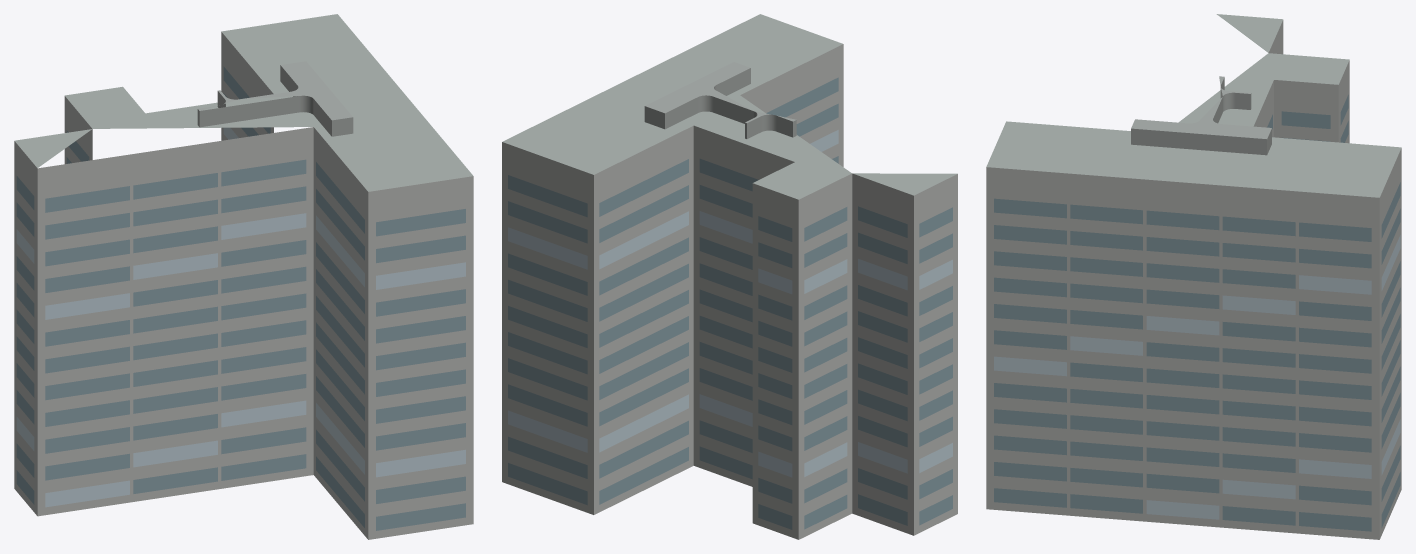
Rendered from fallback-godeok-gracium-108.glb.
3 views of the same model, side by side, from view 1: azimuth 30°, elevation 25°; view 2: azimuth 150°, elevation 25°; view 3: azimuth 270°, elevation 25° (orthographic). The views are drawn at different scales.
Visible parts, largest first — view 1: fallback-godeok-gracium-108; view 2: fallback-godeok-gracium-108; view 3: fallback-godeok-gracium-108.
Boxes of the visible parts, x1,y1,x2,y2 form: fallback-godeok-gracium-108: (14,14,473,539); fallback-godeok-gracium-108: (502,14,957,539); fallback-godeok-gracium-108: (986,14,1401,539).
Size of the model in its own units: 45.12 by 41 by 43.09.
